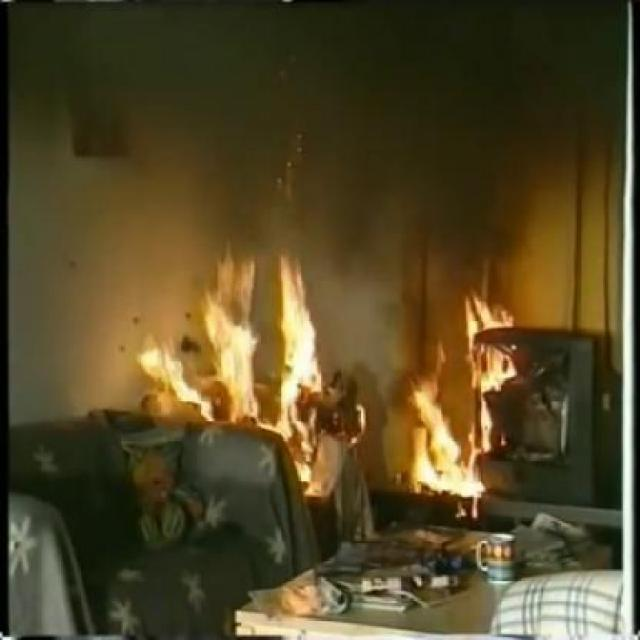fire: (135, 251, 354, 478), (402, 291, 530, 518)
smoke: (150, 38, 402, 376), (323, 16, 622, 287)
